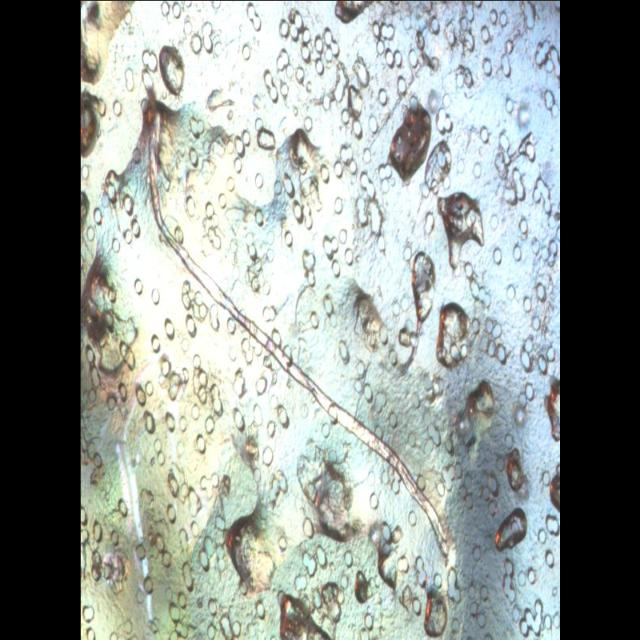Fibre: (136, 92, 464, 586)
